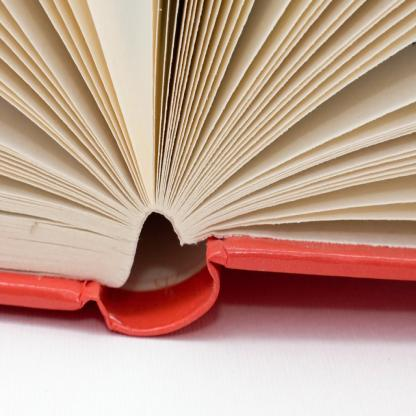book: (0, 2, 416, 341)
